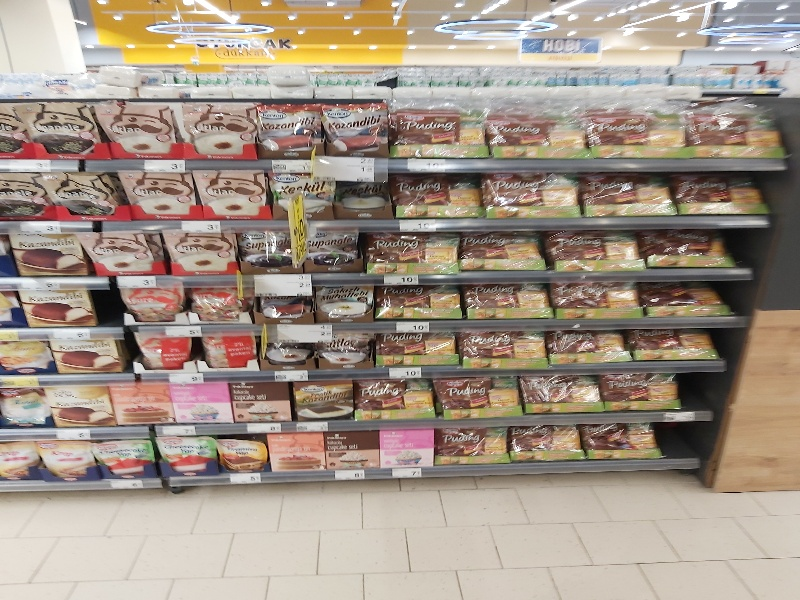urun1: (393, 100, 491, 159), (488, 101, 586, 160), (583, 100, 681, 159), (177, 98, 265, 161), (15, 96, 95, 161), (578, 170, 676, 218), (362, 225, 460, 273), (121, 167, 200, 222), (82, 225, 166, 274), (452, 231, 547, 274), (546, 226, 641, 269), (639, 225, 734, 268), (639, 279, 734, 322), (260, 98, 324, 159), (18, 280, 101, 324), (519, 372, 603, 413), (596, 372, 680, 413), (267, 428, 331, 481), (91, 435, 158, 485), (306, 277, 378, 323), (373, 282, 464, 318), (322, 424, 381, 476), (125, 330, 199, 370), (189, 328, 263, 368), (114, 277, 186, 318), (311, 329, 378, 372), (212, 433, 272, 480), (187, 277, 247, 318), (40, 438, 95, 482), (1, 440, 48, 487)
urun2: (680, 100, 778, 159), (98, 95, 186, 158), (387, 167, 484, 221), (485, 166, 582, 220), (672, 171, 770, 219), (46, 167, 125, 222), (190, 164, 269, 219), (322, 96, 389, 160), (161, 225, 245, 274), (549, 276, 644, 319), (372, 327, 461, 369), (146, 434, 219, 483), (4, 228, 88, 270), (105, 377, 176, 426), (165, 374, 236, 423), (227, 376, 298, 425), (286, 377, 357, 426), (433, 373, 522, 412), (458, 327, 549, 365), (542, 326, 633, 364), (355, 376, 437, 418), (49, 331, 128, 374), (634, 328, 720, 366), (45, 382, 117, 427), (295, 225, 361, 273), (506, 423, 586, 462), (584, 423, 664, 462), (463, 279, 549, 315), (377, 423, 438, 469), (435, 424, 511, 460)
